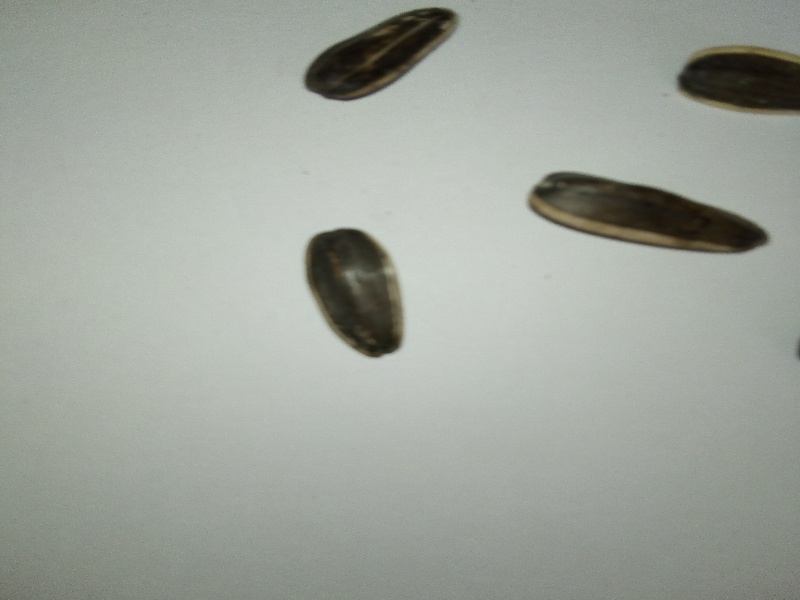w: (519, 162, 777, 268), (297, 220, 414, 364)
